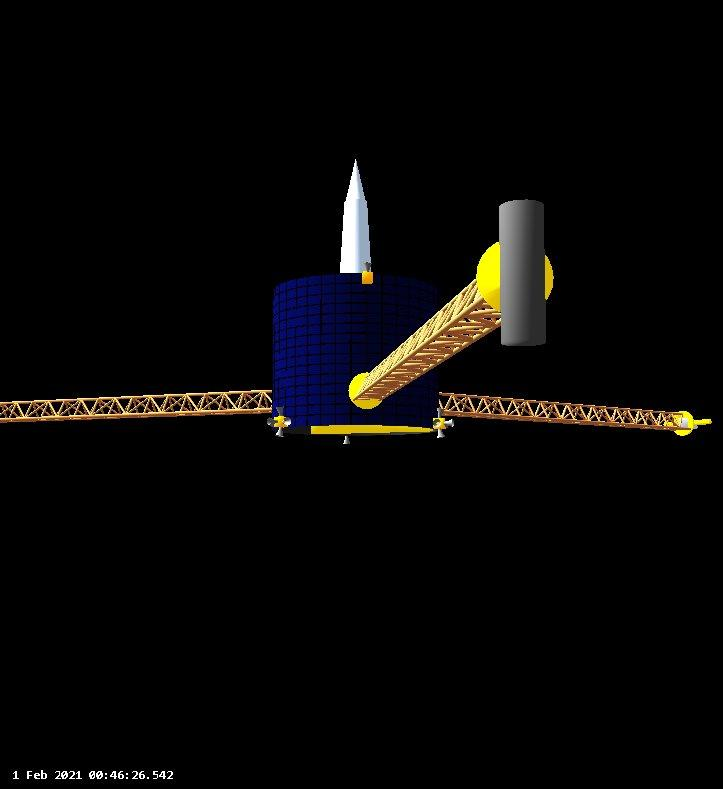antenna: (336, 190, 568, 420), (0, 378, 287, 448), (429, 382, 723, 442), (339, 155, 375, 275)
body: (264, 268, 445, 439)
thruster: (341, 432, 353, 446), (362, 260, 374, 273), (274, 404, 286, 417), (434, 406, 447, 418), (266, 416, 280, 426), (435, 428, 447, 439), (274, 425, 284, 438), (282, 416, 292, 427), (443, 419, 455, 428), (433, 419, 442, 428)
